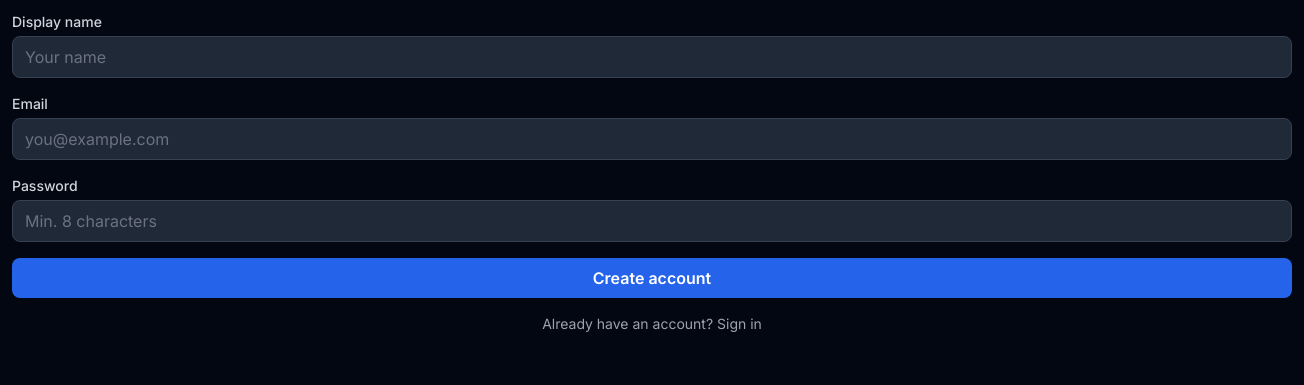
Scenario: RegisterForm › shows error when password is too short (client-side)
The width and height of the screenshot is (1304, 385).
Type "Alice" into the field with placeholder "Your name" at (652, 57), box x1=12 y1=36 x2=1292 y2=78
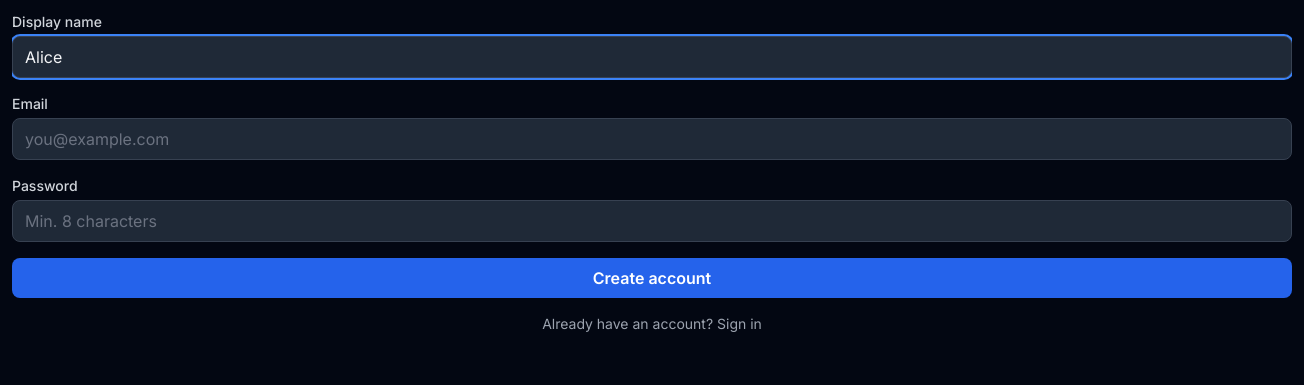
Type "alice@example.com" into the field with placeholder "you@example.com" at (652, 139), box x1=12 y1=118 x2=1292 y2=160
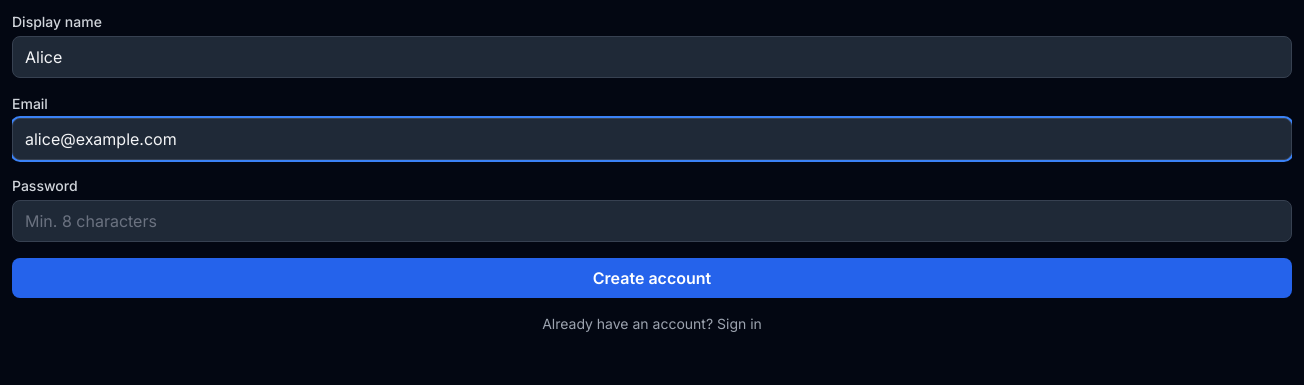
Type "short" into the password field with placeholder "Min. 8 characters" at (652, 221), box x1=12 y1=200 x2=1292 y2=242
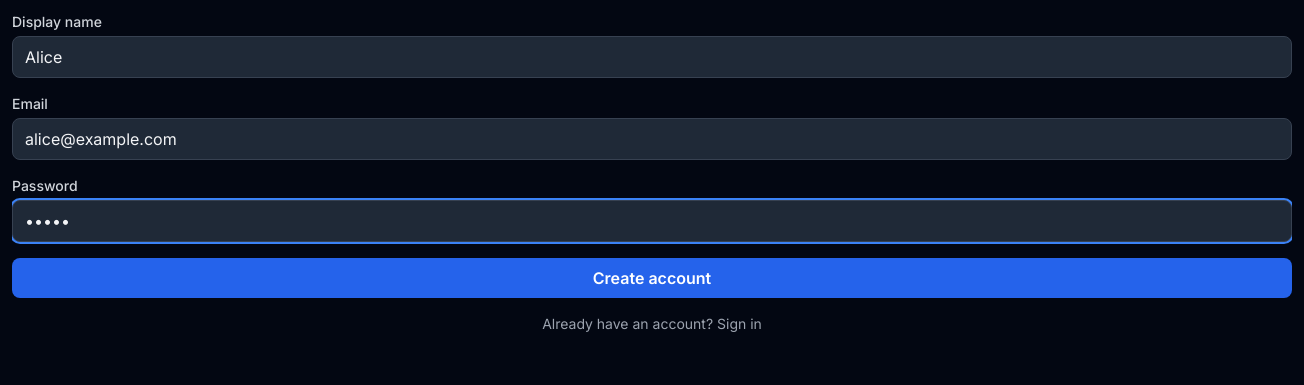
Click the button "Create account" at (652, 278), box x1=12 y1=258 x2=1292 y2=298
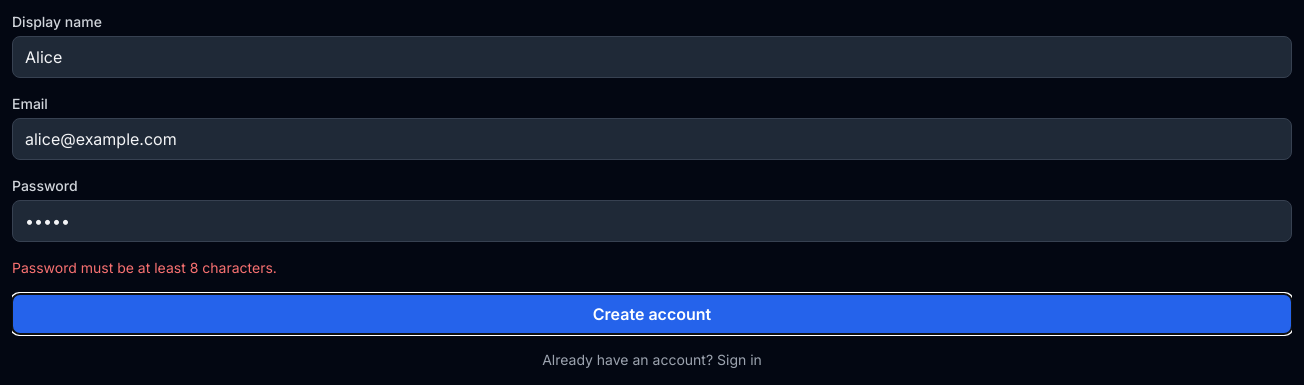
Expected: the message shows "at least 8 characters", x1=12 y1=259 x2=277 y2=276
